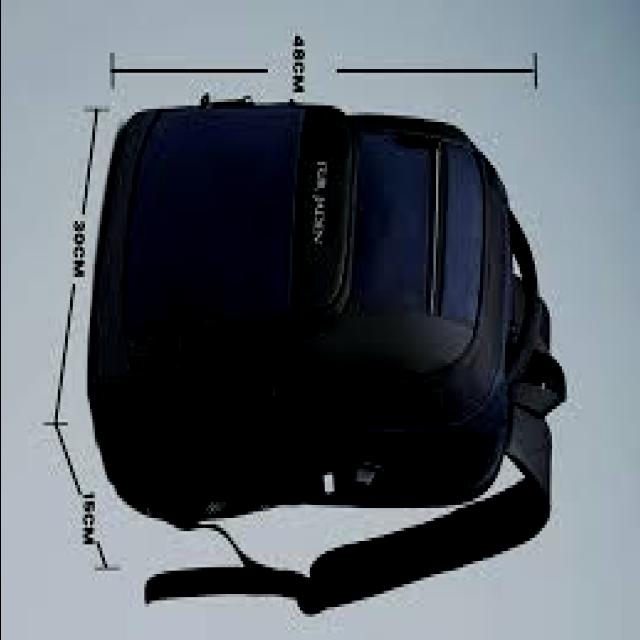backpack: (88, 94, 570, 615)
